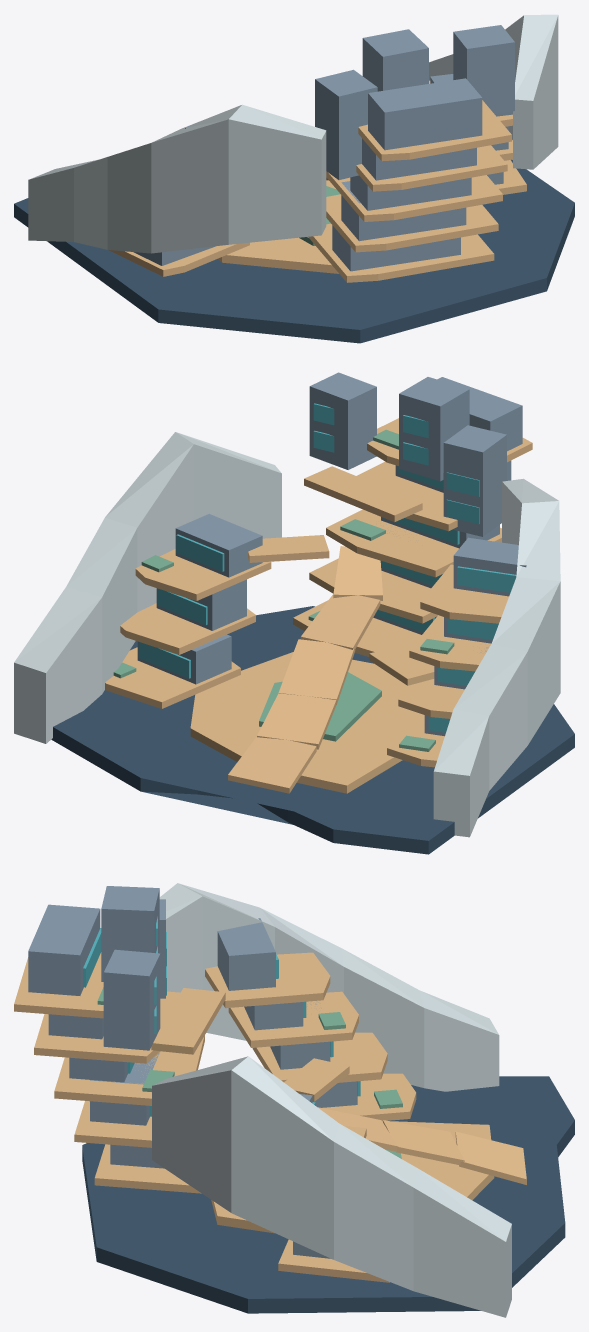
The model's file is a31_civic_valley.obj.
3 views of the same model, one above another, from view 1: azimuth 30°, elevation 25°; view 2: azimuth 150°, elevation 25°; view 3: azimuth 270°, elevation 25° (orthographic). The views are drawn at different scales.
Size of the model in its own units: 344 by 200 by 348.
